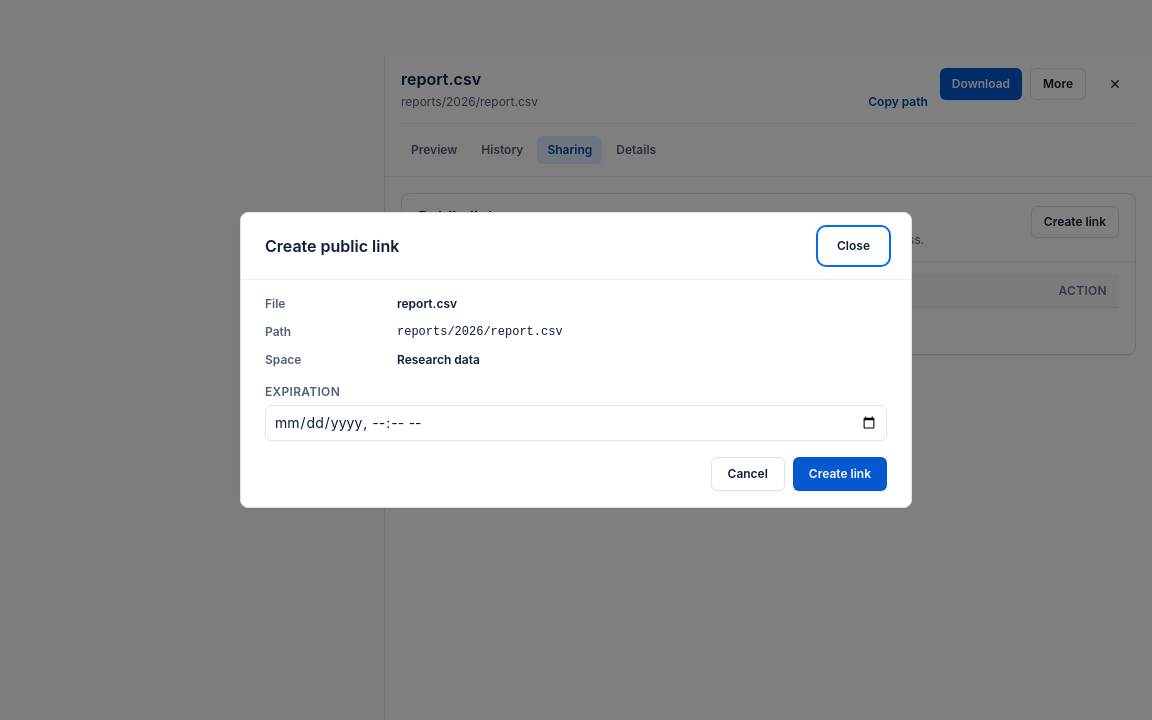
Scenario: StorageSpaceObjectDetailsDrawer › owns the public-link creation flow shared by Portal and the full Browser
This screenshot has width=1152, height=720.
Click the button "Create link": x=840, y=474 [793,457,887,491]
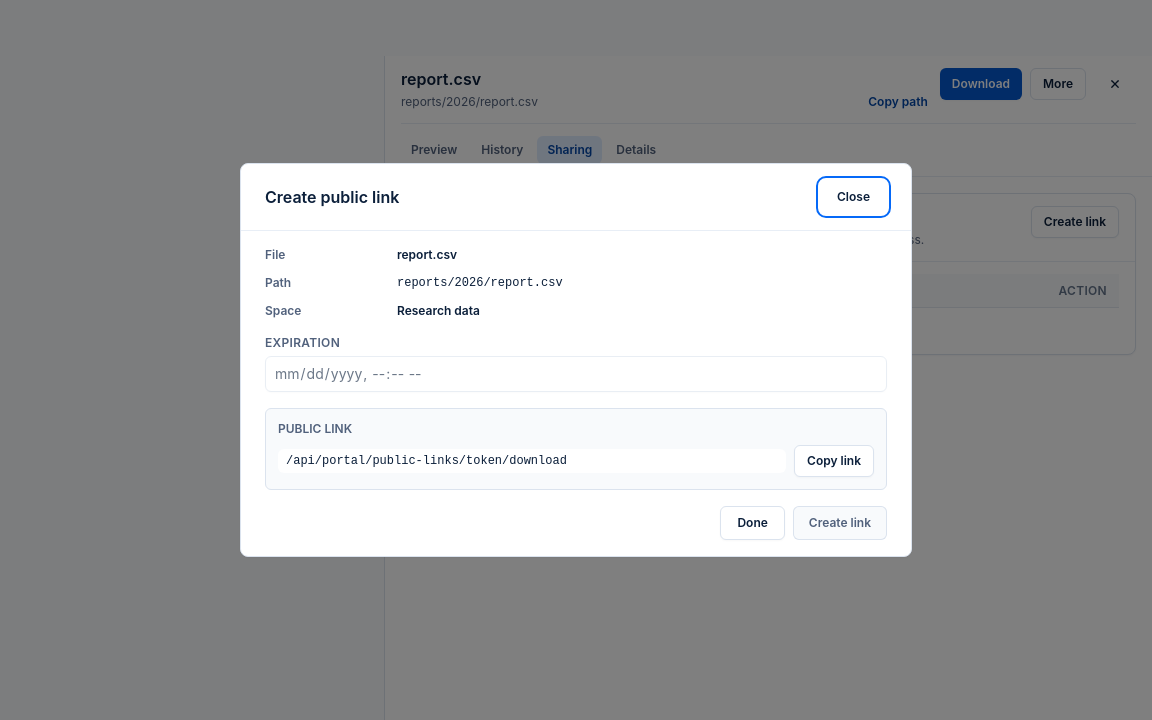
Check: the text "/api/portal/public-links/token/download" is shown, box [278,449,786,473]
